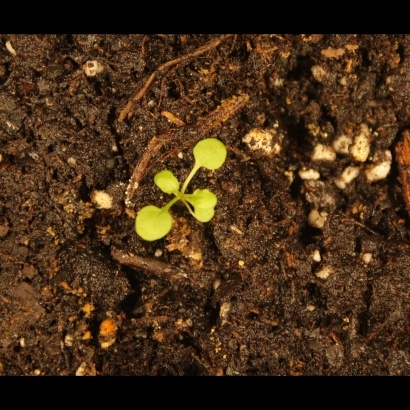leaf: (130, 200, 181, 244), (187, 132, 233, 175), (187, 185, 222, 212), (154, 164, 181, 198), (191, 205, 218, 233)
